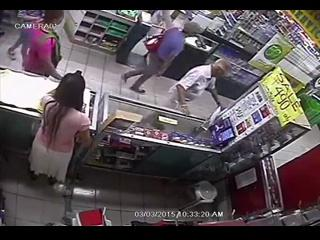Normal: (27, 71, 95, 192), (119, 22, 202, 94), (168, 58, 232, 118), (8, 12, 64, 80)
